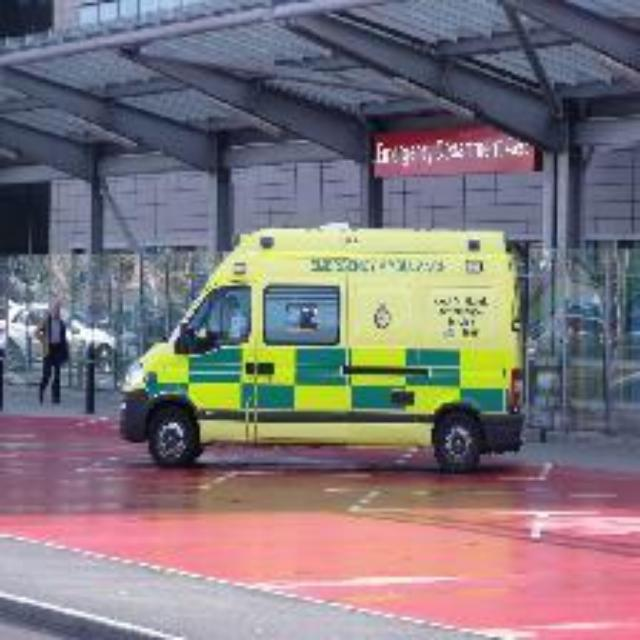emergency: (126, 225, 532, 467)
